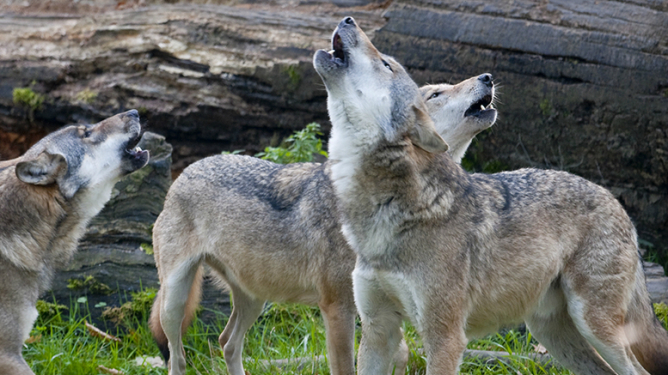wolf: (309, 19, 649, 375), (156, 61, 517, 375), (3, 94, 153, 375)
